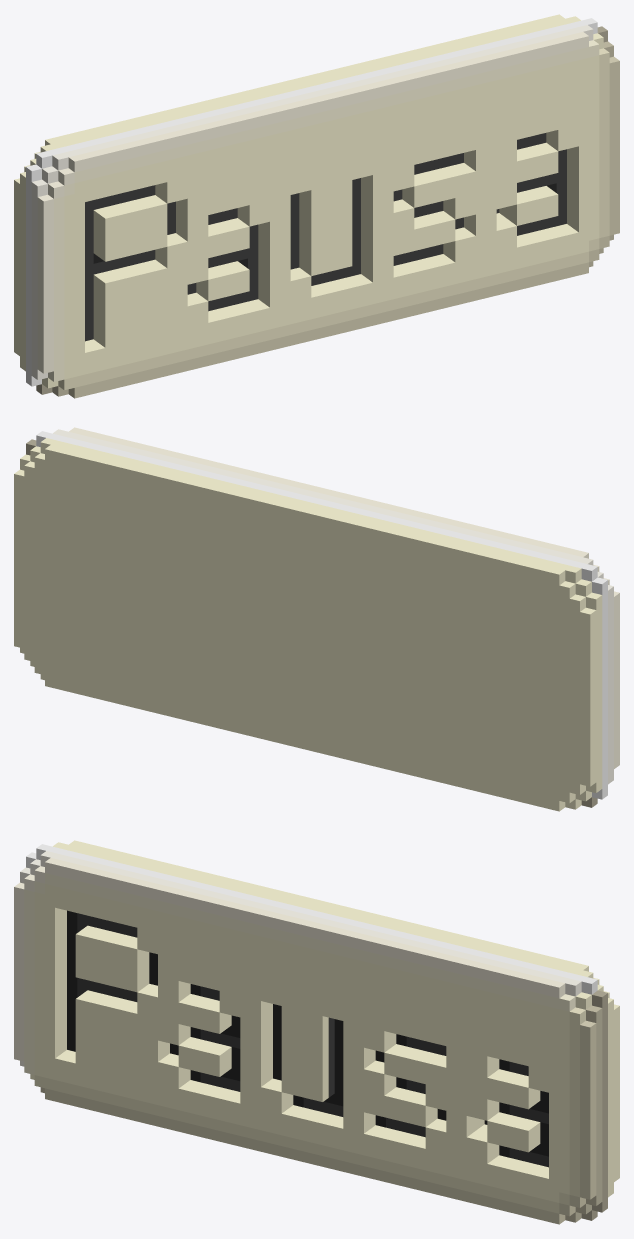
Rendered from Pausa.obj.
3 views of the same model, one above another, from view 1: azimuth 30°, elevation 25°; view 2: azimuth 150°, elevation 25°; view 3: azimuth 330°, elevation 25° (orthographic).
Size of the model in its own units: 5.6 by 2.2 by 0.5.
Materials: 1 (1 with a texture image).
